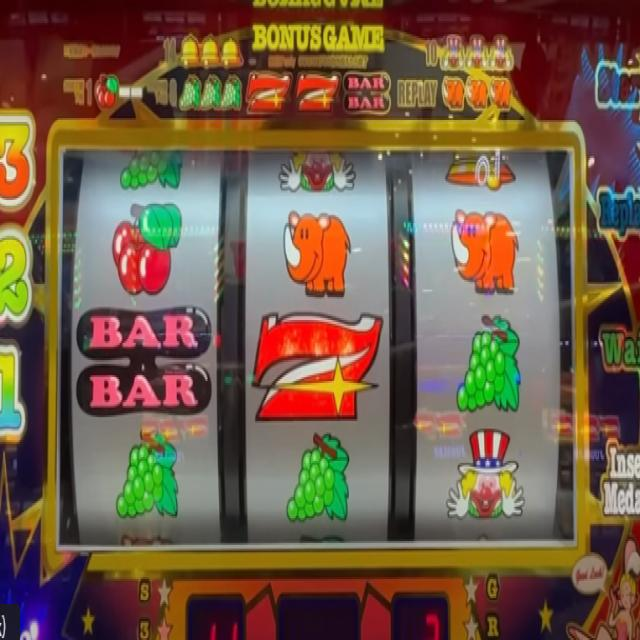bar: (75, 305, 214, 416), (342, 69, 392, 115)
bell: (445, 150, 516, 191), (220, 33, 243, 70), (179, 33, 200, 68), (200, 34, 220, 68)
cherry: (112, 200, 183, 294), (94, 70, 119, 112)
clown: (445, 427, 526, 521), (278, 145, 356, 195), (488, 29, 514, 73), (441, 31, 465, 73), (467, 31, 488, 74)
display: (52, 135, 578, 553)
elephant: (282, 208, 352, 300), (450, 208, 520, 298), (489, 72, 513, 110), (465, 72, 488, 111), (441, 76, 465, 112)
grape: (455, 311, 522, 415), (286, 431, 351, 524), (116, 426, 180, 520), (119, 144, 183, 192), (178, 74, 202, 112), (222, 69, 242, 112), (201, 72, 222, 111)
z: (251, 308, 383, 424), (246, 70, 292, 115), (297, 74, 340, 112)
